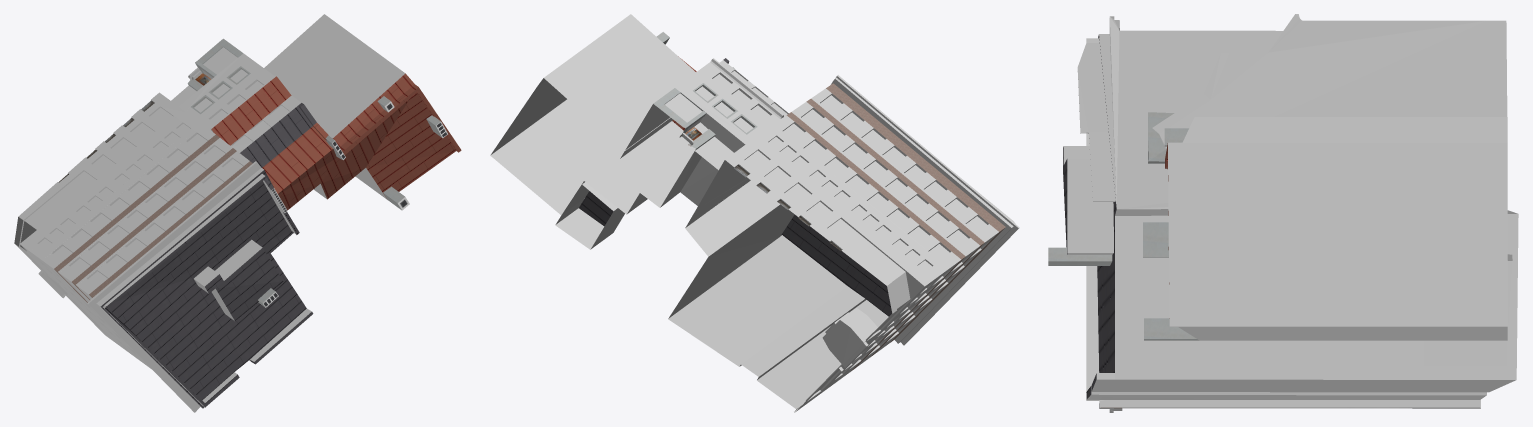
The model's file is Myyrivahe_24.obj.
The picture shows the model from 3 angles, left to right: view 1: azimuth 30°, elevation 25°; view 2: azimuth 150°, elevation 25°; view 3: azimuth 270°, elevation 25°; orthographic projection. The views are drawn at different scales.
Visible parts, largest first — view 1: Myyrivahe_24; view 2: Myyrivahe_24; view 3: Myyrivahe_24.
Boxes of the visible parts, box(x1,y1,x2,y2) form: Myyrivahe_24: box(14, 14, 461, 412); Myyrivahe_24: box(490, 14, 1019, 412); Myyrivahe_24: box(1048, 14, 1518, 412).
Size of the model in its own units: 42.36 by 28.1 by 22.96.
